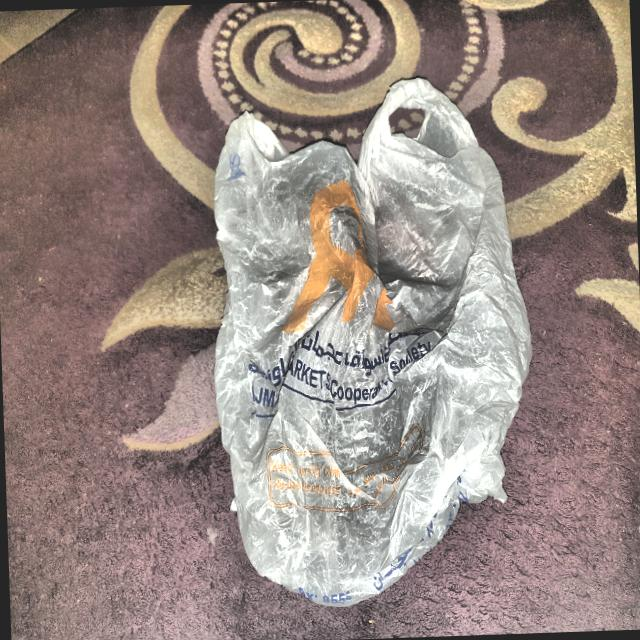plastic bag: (197, 67, 545, 619)
